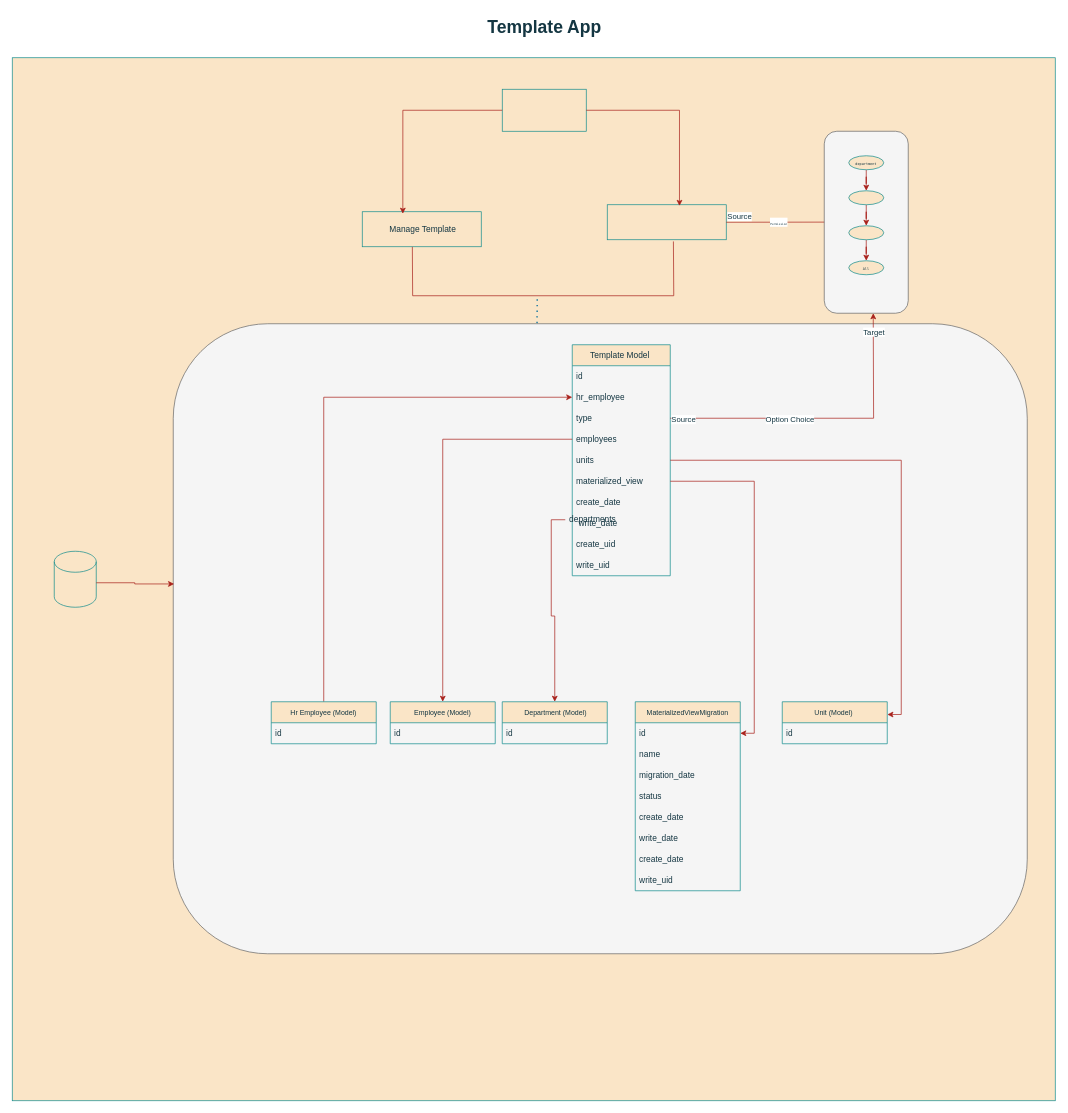
Some shapes in this 1068 by 1113 pixel diagram are drawn without their labels. The shapes that lost their labels are listed below. From the top down, each one's centre as x and y in pixels, then its label:
At pixel 544 110: "API Layer (DRF)".
At pixel 866 197: "Unit".
At pixel 666 222: "Share functionality".
At pixel 866 232: "Hr Employee".
At pixel 75 579: "Enities".
